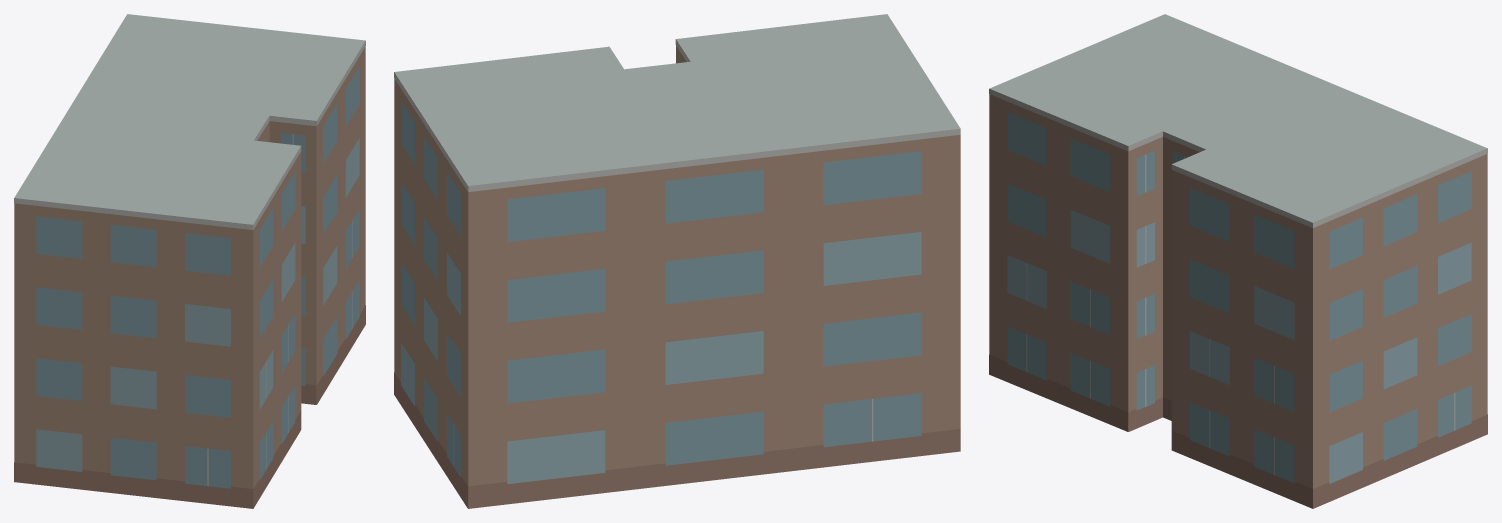
Rendered from survey-upis-32590287.glb.
3 renders of one model, left to right at view 1: azimuth 30°, elevation 25°; view 2: azimuth 150°, elevation 25°; view 3: azimuth 270°, elevation 25°, orthographic. The views are drawn at different scales.
Parts seen in each view (by area): view 1: survey-upis-32590287.tmp; view 2: survey-upis-32590287.tmp; view 3: survey-upis-32590287.tmp.
Boxes of the visible parts, left/top/right/bottom form: survey-upis-32590287.tmp: left=14, top=14, right=365, bottom=508; survey-upis-32590287.tmp: left=394, top=14, right=960, bottom=508; survey-upis-32590287.tmp: left=989, top=14, right=1487, bottom=508.
Bounding box in the file's own units: 20.61 × 13.15 × 20.78.
